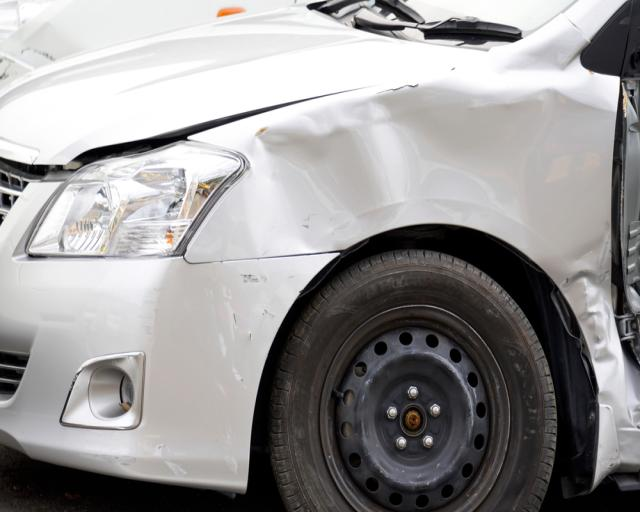dent: (214, 82, 622, 388)
scratch: (214, 269, 272, 394), (96, 438, 186, 481)
